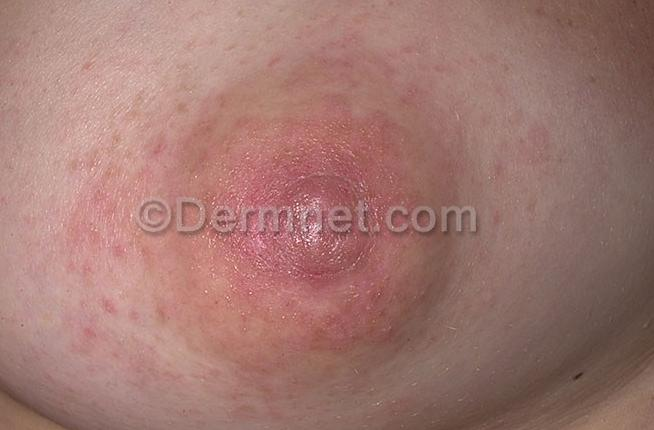Eritema 2: (204, 106, 432, 314)
edema 3: (123, 49, 476, 364)
